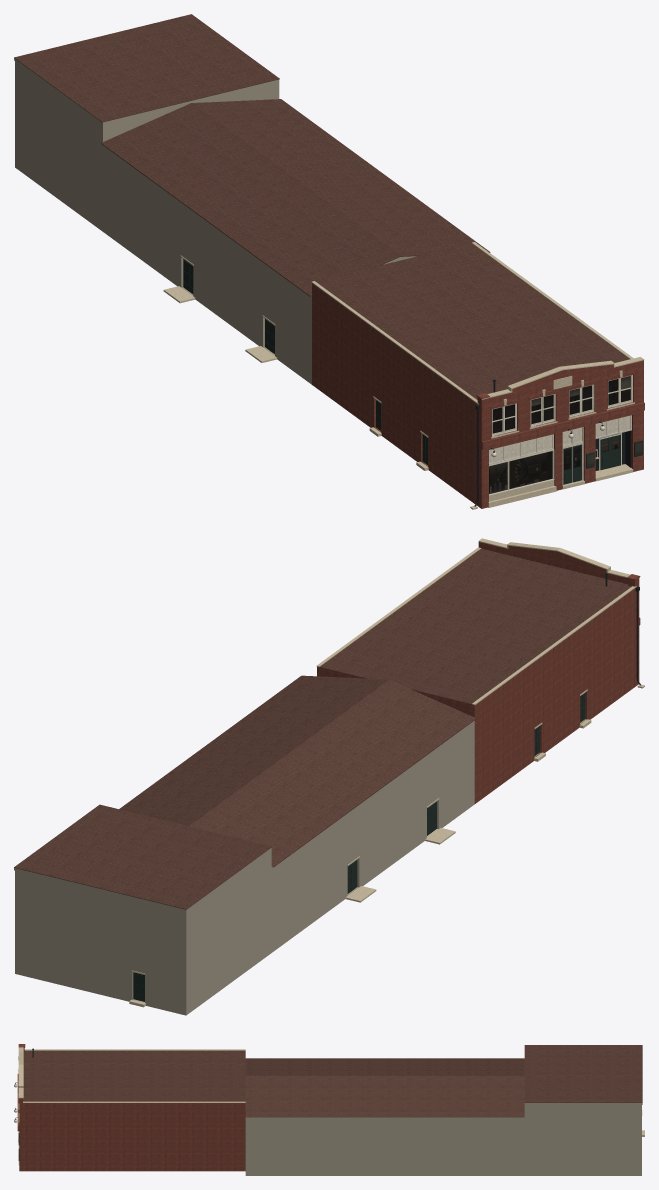
File: palace-theatre.glb
3 renders of one model, top to bottom at view 1: azimuth 30°, elevation 25°; view 2: azimuth 150°, elevation 25°; view 3: azimuth 270°, elevation 25°, orthographic. The views are drawn at different scales.
Parts seen in each view (by area): view 1: PalaceTheatre; view 2: PalaceTheatre; view 3: PalaceTheatre.
Part boxes in pixels (x1,y1,x2,y2): PalaceTheatre: [14, 14, 644, 509]; PalaceTheatre: [14, 538, 644, 1015]; PalaceTheatre: [14, 1044, 644, 1175].
Bounding box in the file's own units: 15.05 × 8.92 × 63.6.
12 materials, 10 textured.
